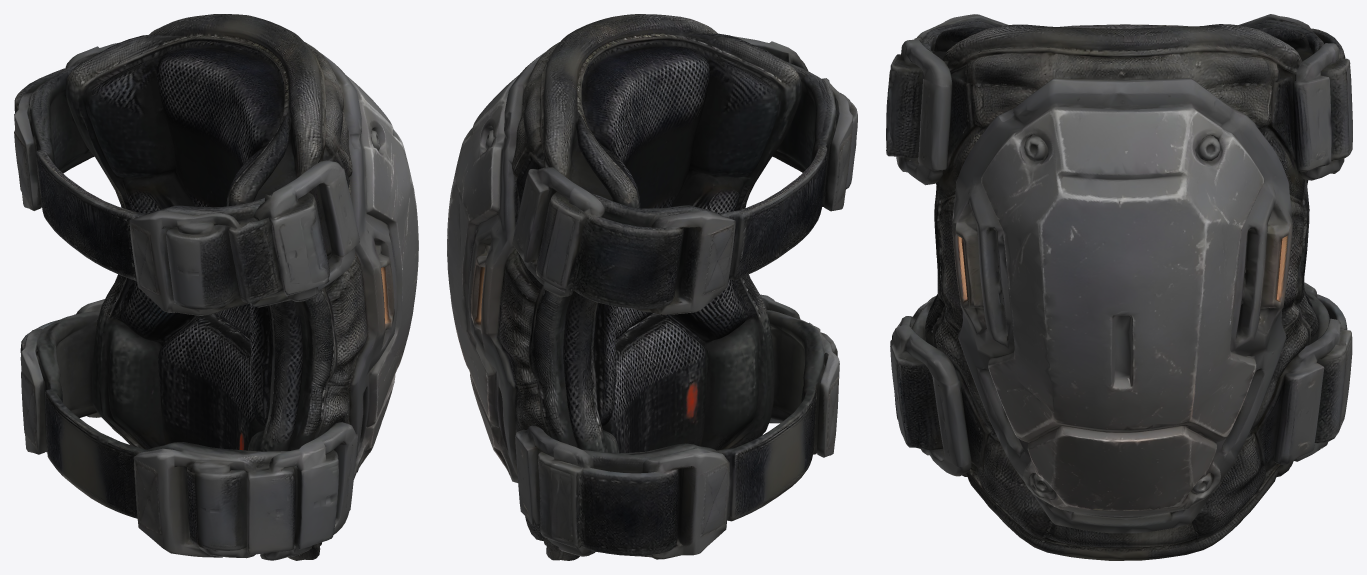
The model's file is tactical-knee-pad-v1.glb.
3 renders of one model, left to right at view 1: azimuth 30°, elevation 25°; view 2: azimuth 150°, elevation 25°; view 3: azimuth 270°, elevation 25°, orthographic. The views are drawn at different scales.
Visible parts, largest first — view 1: tripo_node_c425a920-4160-4335-a196-7b7cef7573d1; view 2: tripo_node_c425a920-4160-4335-a196-7b7cef7573d1; view 3: tripo_node_c425a920-4160-4335-a196-7b7cef7573d1.
Boxes of the visible parts, left/top/right/bottom form: tripo_node_c425a920-4160-4335-a196-7b7cef7573d1: left=14, top=14, right=418, bottom=560; tripo_node_c425a920-4160-4335-a196-7b7cef7573d1: left=447, top=14, right=857, bottom=560; tripo_node_c425a920-4160-4335-a196-7b7cef7573d1: left=886, top=14, right=1352, bottom=560.
Size of the model in its own units: 0.6749 by 0.9792 by 0.7801.
Materials: 1 (1 with a texture image).
